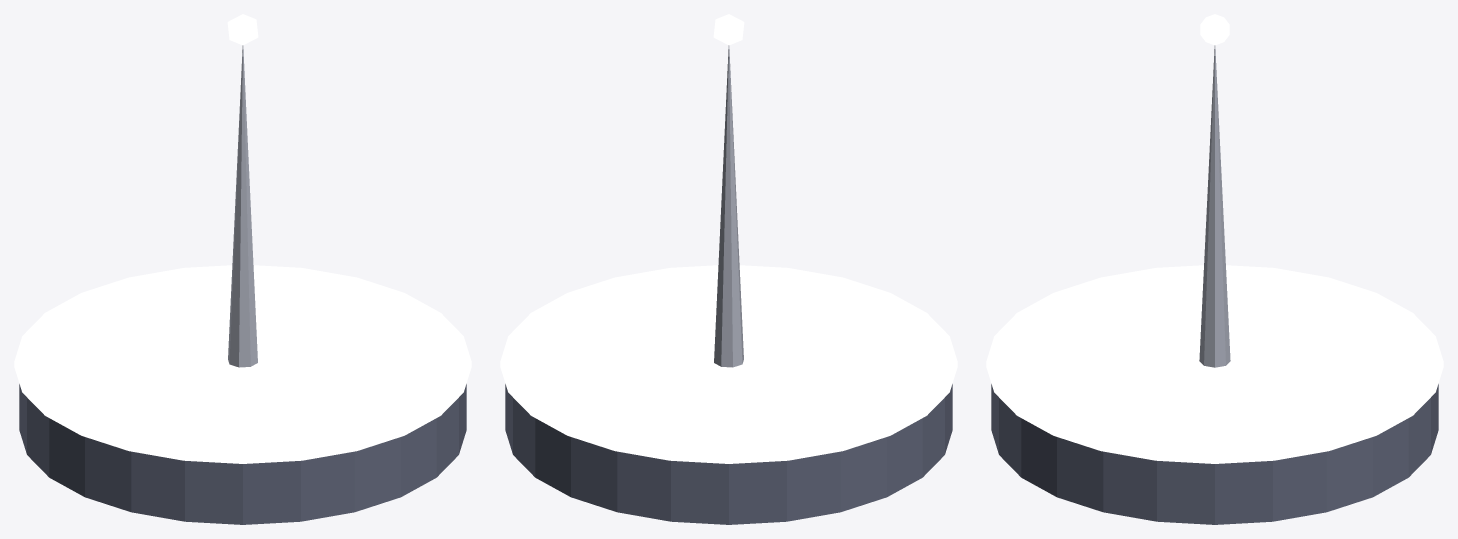
File: tower_needle.glb
3 renders of one model, left to right at view 1: azimuth 30°, elevation 25°; view 2: azimuth 150°, elevation 25°; view 3: azimuth 270°, elevation 25°, orthographic.
Visible parts, largest first — view 1: PodiumGlow, PodiumBase, Antenna, Beacon; view 2: PodiumGlow, PodiumBase, Antenna, Beacon; view 3: PodiumGlow, PodiumBase, Antenna, Beacon.
Part boxes in pixels (x1=…): PodiumGlow: x1=14, y1=265, x2=471, y2=463; PodiumBase: x1=19, y1=384, x2=466, y2=524; Antenna: x1=228, y1=45, x2=257, y2=367; Beacon: x1=227, y1=14, x2=258, y2=45; PodiumGlow: x1=500, y1=265, x2=957, y2=463; PodiumBase: x1=505, y1=384, x2=952, y2=524; Antenna: x1=714, y1=45, x2=743, y2=367; Beacon: x1=713, y1=14, x2=744, y2=45; PodiumGlow: x1=986, y1=265, x2=1443, y2=463; PodiumBase: x1=991, y1=384, x2=1438, y2=524; Antenna: x1=1199, y1=45, x2=1230, y2=367; Beacon: x1=1200, y1=14, x2=1229, y2=45.
Size of the model in its own units: 18.4 by 18.5 by 18.4.
